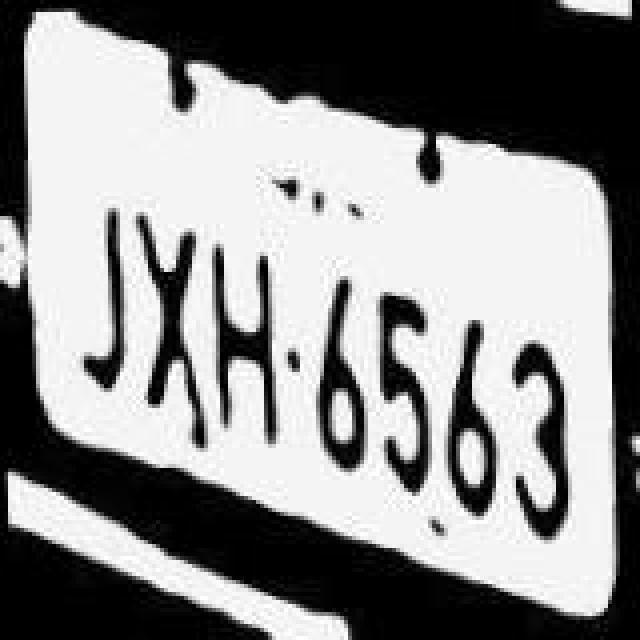3: (500, 294, 580, 554)
5: (370, 258, 442, 514)
6: (308, 254, 376, 514), (436, 284, 504, 520)
H: (204, 224, 284, 460)
J: (66, 160, 130, 408)
X: (128, 194, 208, 418)
